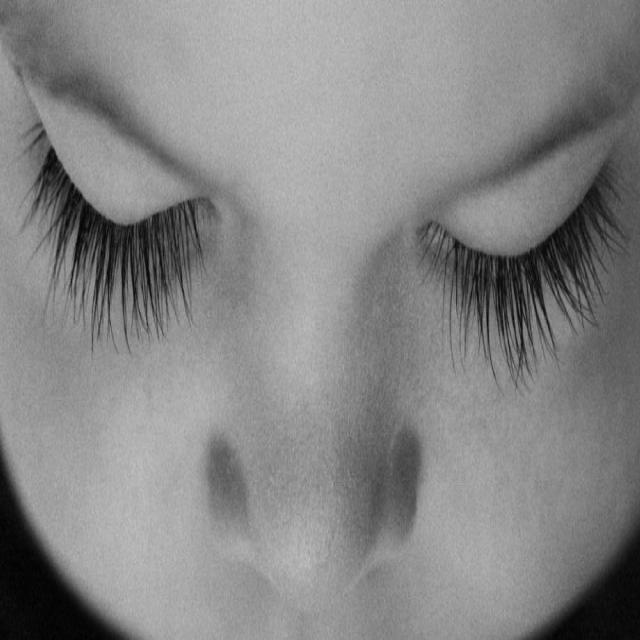real: (6, 28, 638, 450)
